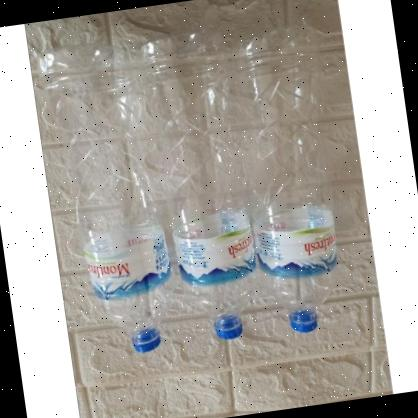bottle: (35, 35, 183, 366), (139, 25, 270, 350), (226, 17, 351, 338)
cap: (288, 309, 320, 335), (132, 330, 162, 356), (215, 316, 242, 339)
label: (80, 223, 171, 300), (172, 214, 260, 290), (255, 210, 340, 284)
